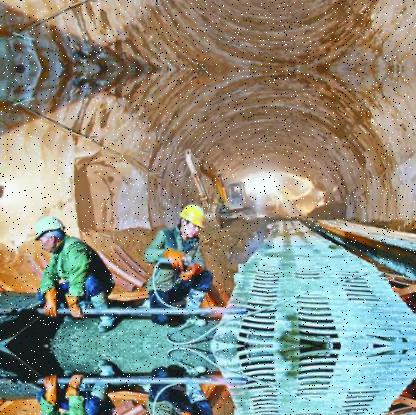helmet: (29, 213, 65, 251), (175, 200, 203, 238)
